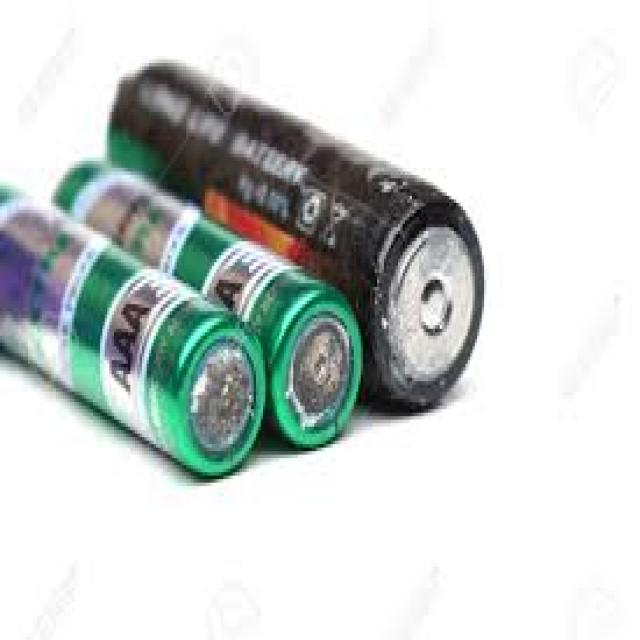non-organic waste: (106, 59, 486, 420), (56, 146, 363, 457), (0, 180, 268, 490)
